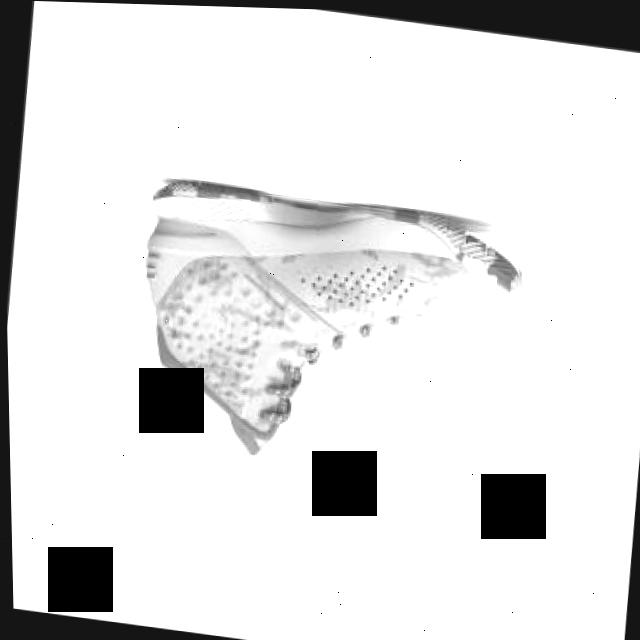shoe: (121, 175, 526, 486)
